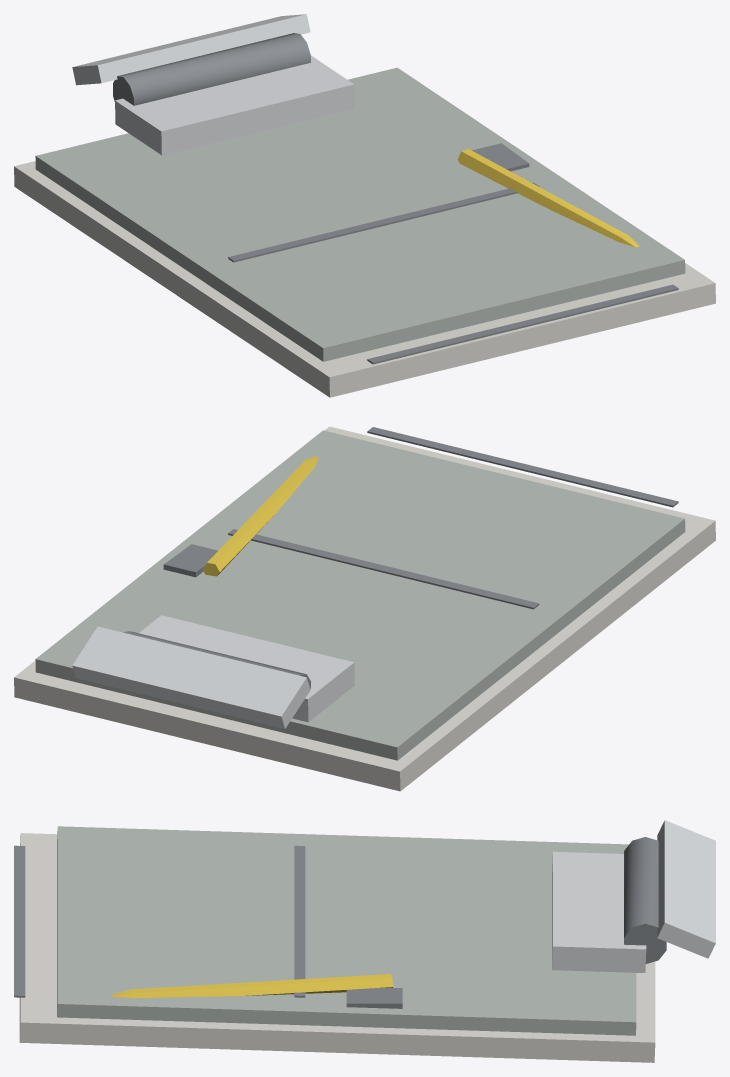
The model's file is cold-war-missile-silo-and-command-bunker-clipboard-and-d6bed08e__15713.glb.
3 views of the same model, one above another, from view 1: azimuth 30°, elevation 25°; view 2: azimuth 150°, elevation 25°; view 3: azimuth 270°, elevation 25° (orthographic).
Parts seen in each view (by area): view 1: clipboard-and-log; view 2: clipboard-and-log; view 3: clipboard-and-log.
Boxes of the visible parts, x1,y1,x2,y2 form: clipboard-and-log: (14, 14, 715, 397); clipboard-and-log: (14, 426, 715, 791); clipboard-and-log: (14, 820, 715, 1062).
Size of the model in its own units: 0.24 by 0.0572 by 0.3758.
